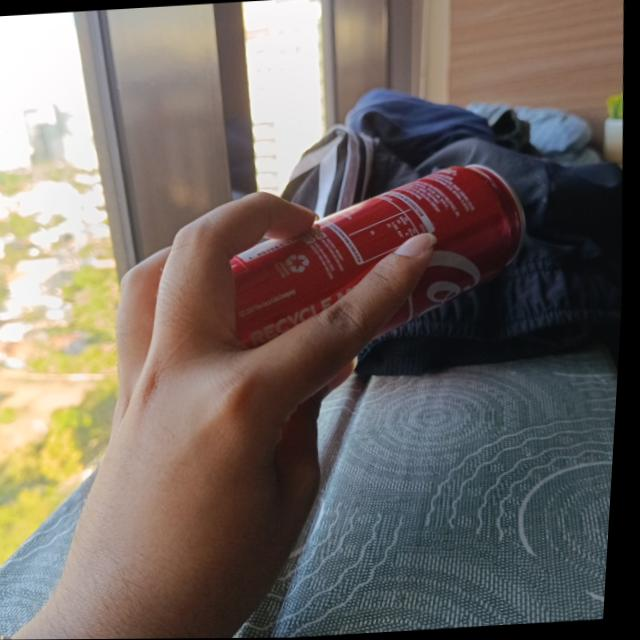coke: (221, 159, 535, 353)
